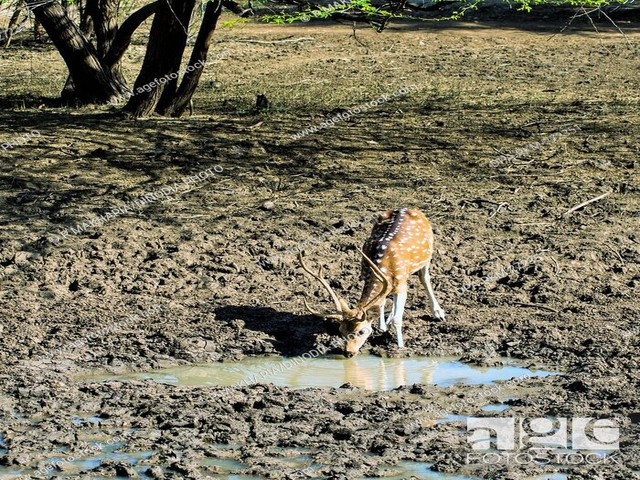deer: (293, 196, 459, 360)
